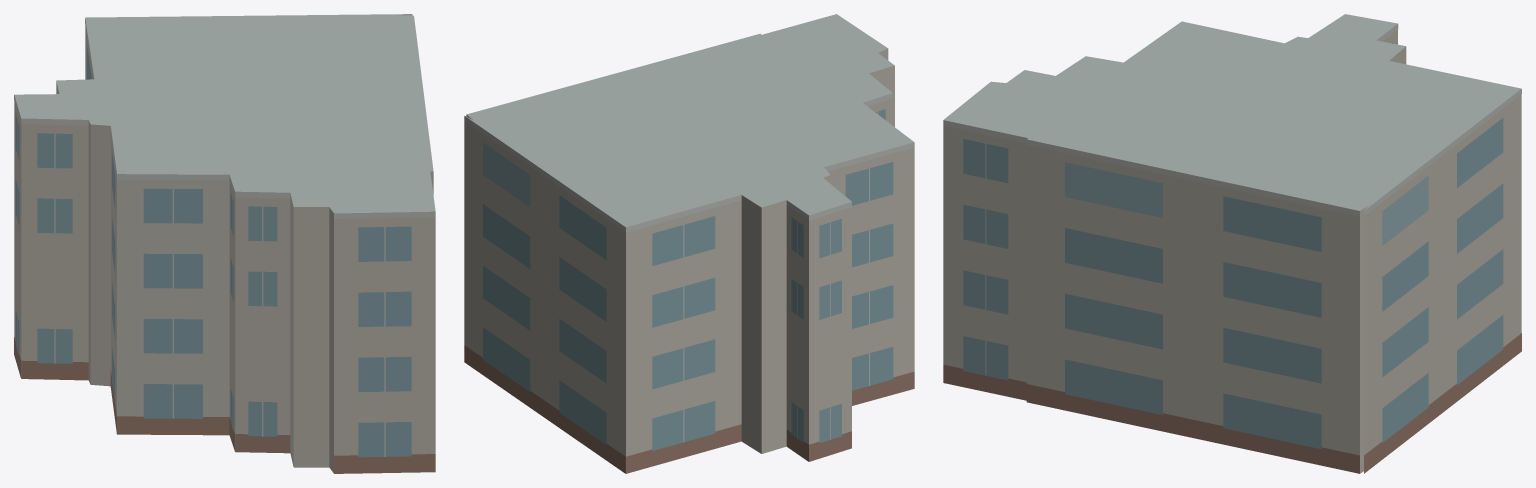
File: survey-upis-32777897.glb
The picture shows the model from 3 angles, left to right: view 1: azimuth 30°, elevation 25°; view 2: azimuth 150°, elevation 25°; view 3: azimuth 270°, elevation 25°; orthographic projection. The views are drawn at different scales.
Visible parts, largest first — view 1: survey-upis-32777897.tmp; view 2: survey-upis-32777897.tmp; view 3: survey-upis-32777897.tmp.
Part boxes in pixels (left/top/right/bottom): survey-upis-32777897.tmp: left=14, top=14, right=435, bottom=473; survey-upis-32777897.tmp: left=464, top=14, right=914, bottom=473; survey-upis-32777897.tmp: left=943, top=14, right=1521, bottom=473.
Bounding box in the file's own units: 18.25 × 11.34 × 22.63.
